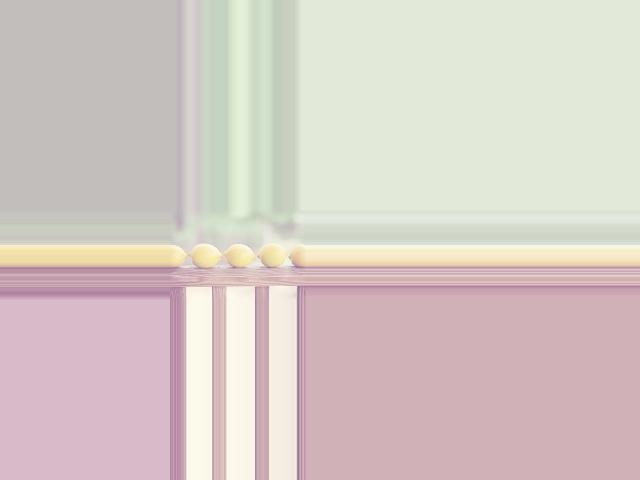lemon: (170, 244, 186, 266)
